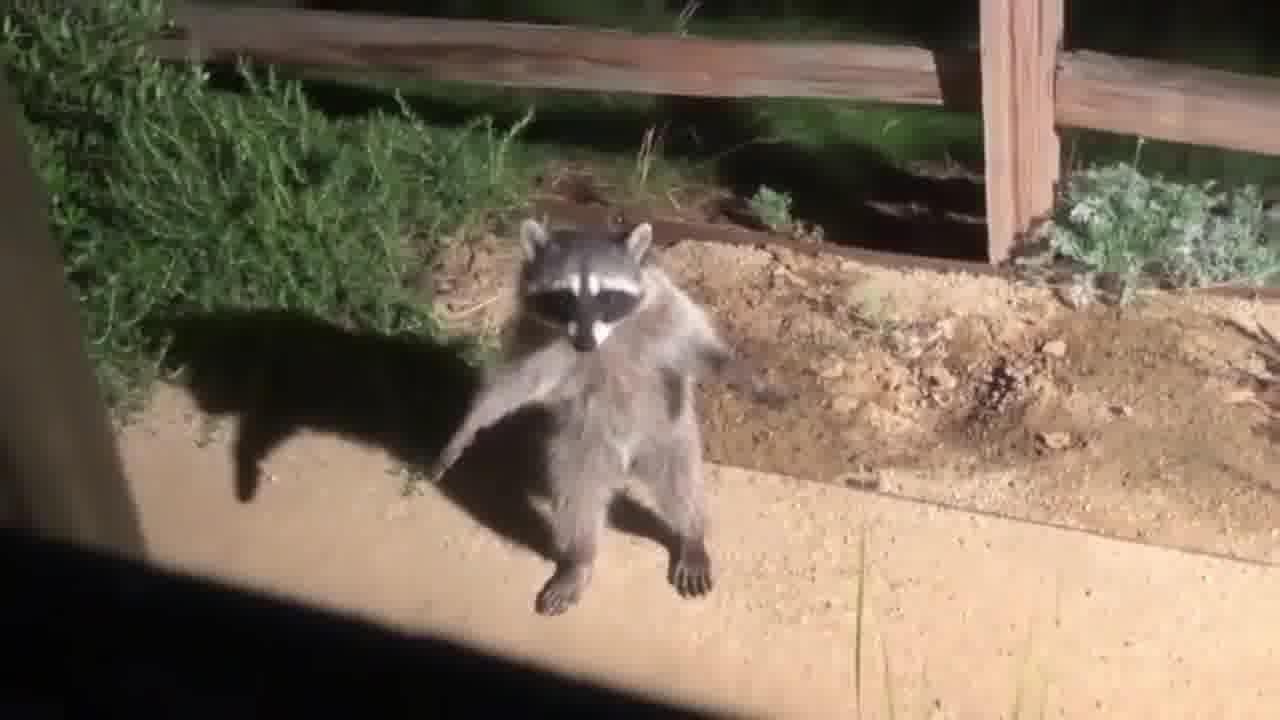raccoon: (420, 208, 801, 628)
